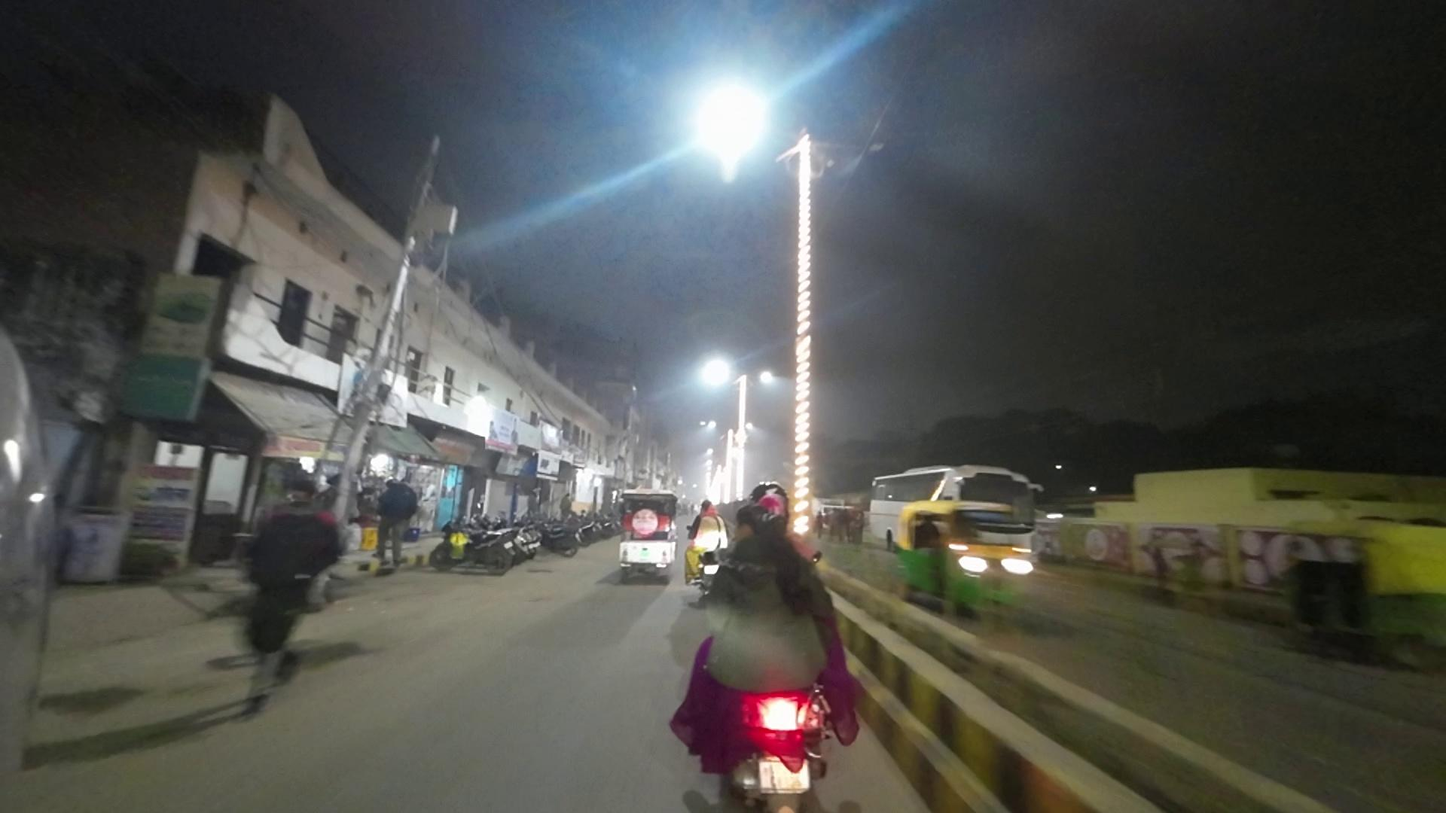streetlight: (823, 140, 890, 158)
